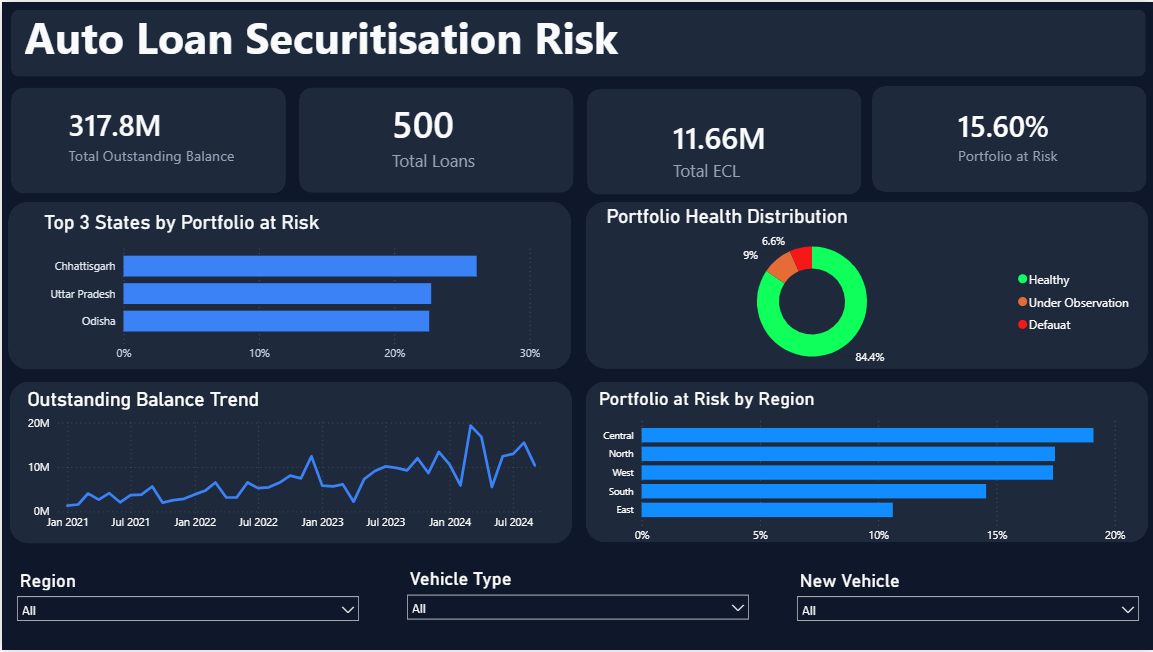

This screenshot's page, from the dashboard's own definition file:
{"tool":"powerbi","page":{"name":"Executive Overview","canvas":[1280,720],"ordinal":0},"visuals":[{"type":"shape","box":[10,7.6,1261,74.8],"z":0,"group":"g2"},{"type":"shape","box":[647.8,222.2,625.6,186],"z":1000,"group":"g2"},{"type":"shape","box":[7.6,422.5,625.2,180.3],"z":1000,"group":"g1"},{"type":"shape","box":[10,95.2,305.5,117.7],"z":2000,"group":"g2"},{"type":"shape","box":[6.7,222.2,625.8,187],"z":3000,"group":"g2"},{"type":"shape","box":[329.8,95.8,305,117],"z":4000,"group":"g2"},{"type":"shape","box":[650,96.2,305,117.5],"z":5000,"group":"g2"},{"type":"lineChart","title":"Outstanding Balance Trend","fields":{"Category":["auto_loan_securitisation_data.OriginationDate.Variation.Date Hierarchy.Year","auto_loan_securitisation_data.OriginationDate.Variation.Date Hierarchy.Month"],"Y":["auto_loan_securitisation_data.Total Outstanding Balance"]},"box":[22.5,428.9,595.4,167.4],"z":5000,"group":"g1"},{"type":"donutChart","title":"Portfolio Health Distribution","fields":{"Y":["auto_loan_securitisation_data.Total Loan"],"Category":["auto_loan_securitisation_data.IRFS Stage Name"]},"box":[666.7,225.3,600,190.3],"z":6000,"group":"g2"},{"type":"shape","box":[965.9,92.7,305,117.7],"z":7000,"group":"g2"},{"type":"shape","box":[647.8,422.2,625.6,178.9],"z":8000,"group":"g2"},{"type":"textbox","box":[20,0,742,140],"z":9000,"group":"g2"},{"type":"clusteredBarChart","title":"Top 3 States by Portfolio at Risk","fields":{"Category":["auto_loan_securitisation_data.State"],"Y":["auto_loan_securitisation_data.Risky Loan%"]},"box":[42.1,232.3,561.3,176.6],"z":10000,"group":"g2"},{"type":"cardVisual","fields":{"Data":["auto_loan_securitisation_data.Total Outstanding Balance"]},"box":[30.2,83.6,285.4,129.3],"z":11000,"group":"g2"},{"type":"cardVisual","fields":{"Data":["auto_loan_securitisation_data.Total Loan"]},"box":[393,82,191,131.5],"z":12000,"group":"g2"},{"type":"cardVisual","fields":{"Data":["auto_loan_securitisation_data.Total ECL"]},"box":[701.3,96.2,252.5,132.5],"z":13000,"group":"g2"},{"type":"cardVisual","fields":{"Data":["auto_loan_securitisation_data.Risky Loan%"]},"box":[1017.8,80.8,252.9,132.6],"z":14000,"group":"g2"},{"type":"barChart","title":"Portfolio at Risk by Region","fields":{"Y":["auto_loan_securitisation_data.Risky Loan%"],"Category":["auto_loan_securitisation_data.Region"]},"box":[657.6,428.7,594.7,181.5],"z":14000,"group":"g1"},{"type":"slicer","fields":{"Values":["auto_loan_securitisation_data.Region"]},"box":[7.2,624.3,400,77.1],"z":15000,"group":"g2"},{"type":"group","id":"g1","title":"Group 1","box":[7.6,422.5,1244.7,187.8],"z":16000,"group":"g2"},{"type":"slicer","fields":{"Values":["auto_loan_securitisation_data.VehicleType"]},"box":[440,624,400,78],"z":17000,"group":"g2"},{"type":"slicer","fields":{"Values":["auto_loan_securitisation_data.IsNewVehicle"]},"box":[872.9,625.7,400,77.1],"z":18000,"group":"g2"},{"type":"group","id":"g2","title":"Group 2","box":[6.7,0,1266.7,702.9],"z":18001}]}

Visuals, with their boxes in screenshot pixels (x1, y1, x2, y2), scaled from the page's 1280x720 canvas onto the 1153x652 screenshot:
shape: <box>9,7,1145,75</box>
shape: <box>584,201,1147,370</box>
shape: <box>7,383,570,546</box>
shape: <box>9,86,284,193</box>
shape: <box>6,201,570,371</box>
shape: <box>297,87,572,193</box>
shape: <box>586,87,860,194</box>
"Outstanding Balance Trend" lineChart: <box>20,388,557,540</box>
"Portfolio Health Distribution" donutChart: <box>601,204,1141,376</box>
shape: <box>870,84,1145,191</box>
shape: <box>584,382,1147,544</box>
textbox: <box>18,0,686,127</box>
"Top 3 States by Portfolio at Risk" clusteredBarChart: <box>38,210,544,370</box>
cardVisual - auto_loan_securitisation_data.Total Outstanding Balance: <box>27,76,284,193</box>
cardVisual - auto_loan_securitisation_data.Total Loan: <box>354,74,526,193</box>
cardVisual - auto_loan_securitisation_data.Total ECL: <box>632,87,859,207</box>
cardVisual - auto_loan_securitisation_data.Risky Loan%: <box>917,73,1145,193</box>
"Portfolio at Risk by Region" barChart: <box>592,388,1128,553</box>
slicer - auto_loan_securitisation_data.Region: <box>6,565,367,635</box>
"Group 1" group: <box>7,383,1128,553</box>
slicer - auto_loan_securitisation_data.VehicleType: <box>396,565,757,636</box>
slicer - auto_loan_securitisation_data.IsNewVehicle: <box>786,567,1147,636</box>
"Group 2" group: <box>6,0,1147,637</box>
